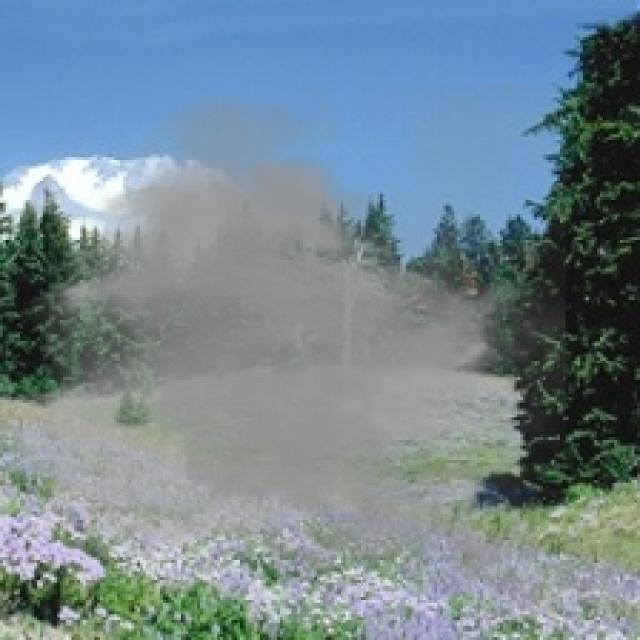Smoke: (6, 82, 566, 608)
